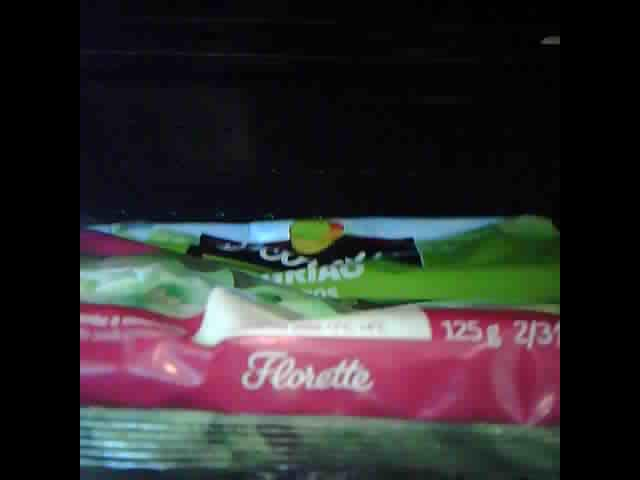florette: (81, 212, 559, 471)
